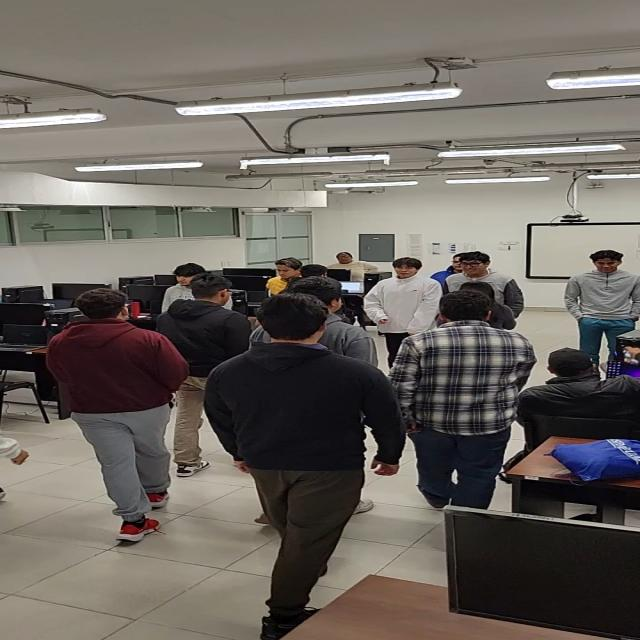Persona: (204, 289, 401, 640), (40, 285, 189, 550), (395, 288, 527, 519), (161, 272, 240, 478), (560, 243, 640, 367), (363, 254, 440, 344)
